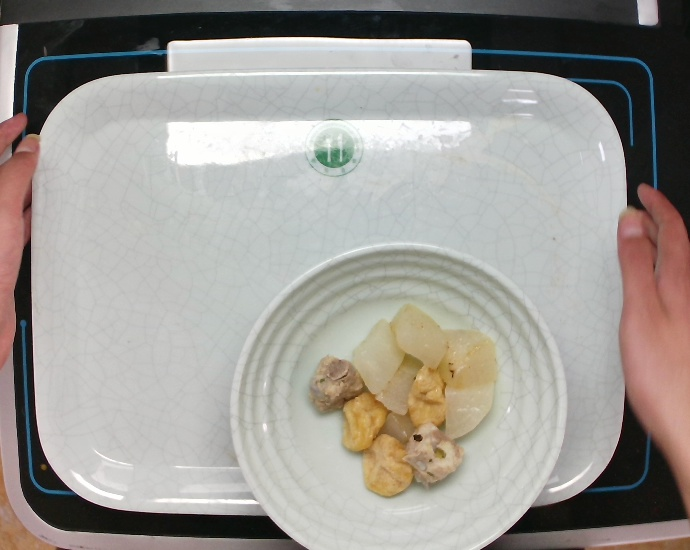JYsf-Da_Tang_Wan: (227, 239, 570, 550)
